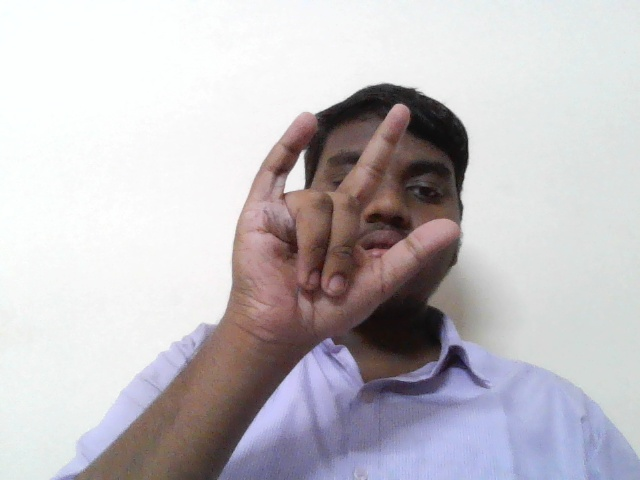I love you: (189, 98, 459, 348)
